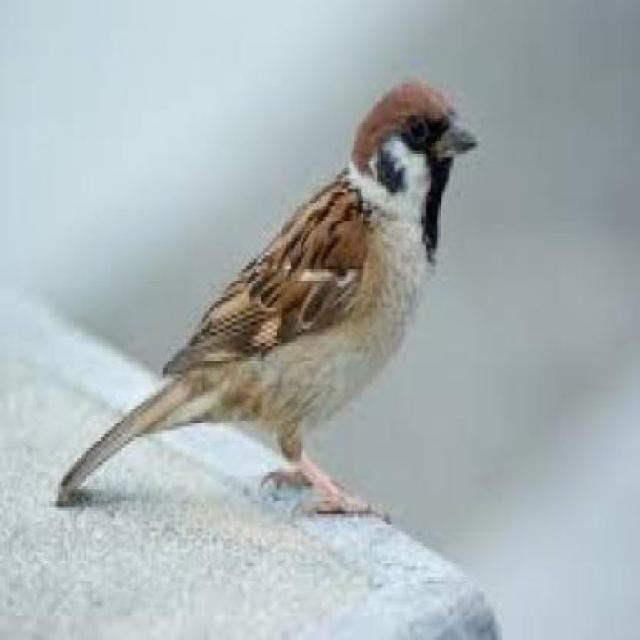sparrow: (56, 78, 481, 513)
